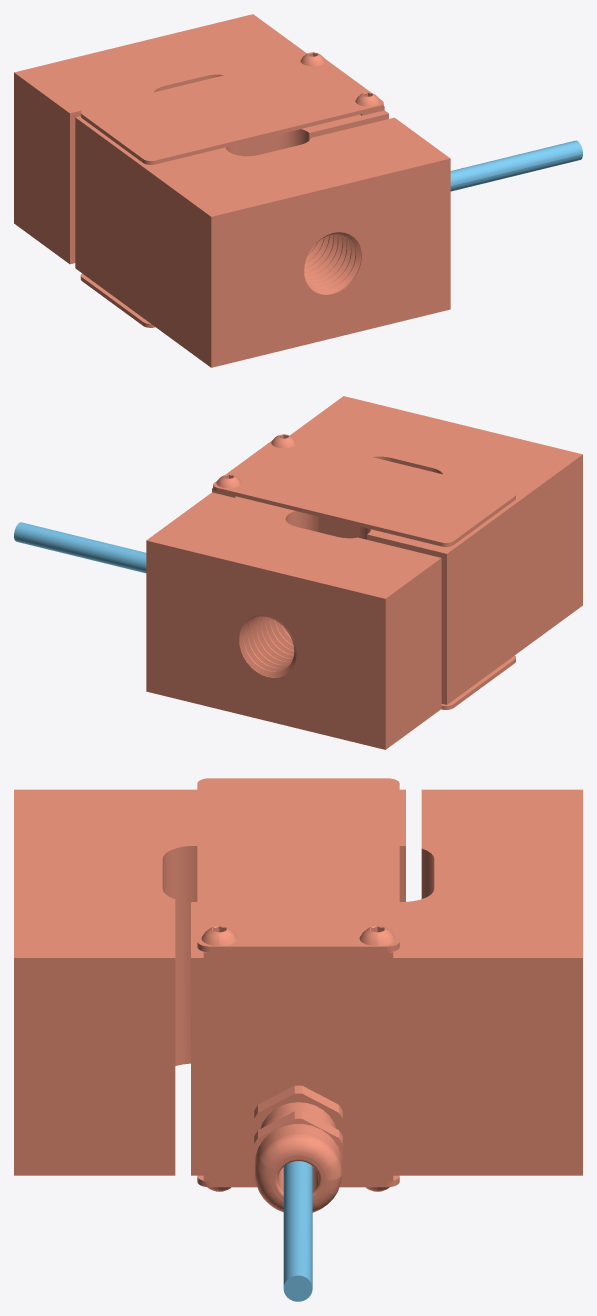
The model's file is 5ab3f2d6-875f-4e5c-a6ec-5e7fdf6e12cc.glb.
3 renders of one model, top to bottom at view 1: azimuth 30°, elevation 25°; view 2: azimuth 150°, elevation 25°; view 3: azimuth 270°, elevation 25°, orthographic. The views are drawn at different scales.
Visible parts, largest first — view 1: STEP_Part_0, STEP_Part_1; view 2: STEP_Part_0, STEP_Part_1; view 3: STEP_Part_0, STEP_Part_1.
Boxes of the visible parts, bbox=[...] form: STEP_Part_0: bbox=[14, 14, 450, 367]; STEP_Part_1: bbox=[450, 140, 582, 191]; STEP_Part_0: bbox=[146, 396, 582, 749]; STEP_Part_1: bbox=[14, 522, 146, 573]; STEP_Part_0: bbox=[14, 778, 582, 1212]; STEP_Part_1: bbox=[283, 1161, 312, 1301].
Bounding box in the file's own units: 122 × 45.3 × 90.
